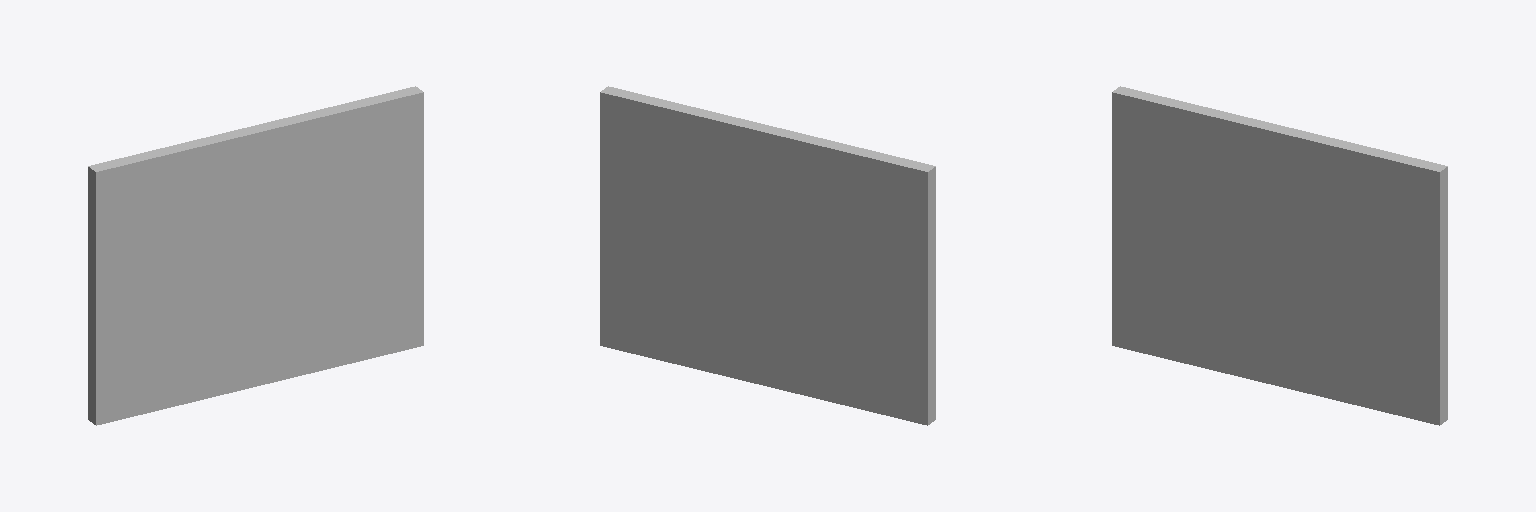
The model's file is screen.obj.
3 views of the same model, side by side, from view 1: azimuth 30°, elevation 25°; view 2: azimuth 150°, elevation 25°; view 3: azimuth 330°, elevation 25° (orthographic).
Visible parts, largest first — view 1: object 1; view 2: object 1; view 3: object 1.
Boxes of the visible parts, <box> form: object 1: <box>88,86,423,425</box>; object 1: <box>600,86,935,425</box>; object 1: <box>1112,86,1447,425</box>.
Bounding box in the file's own units: 2.3 × 1.7 × 0.1.